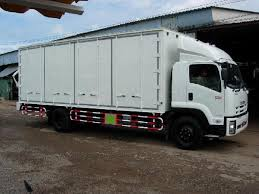truck: (17, 29, 249, 149)
